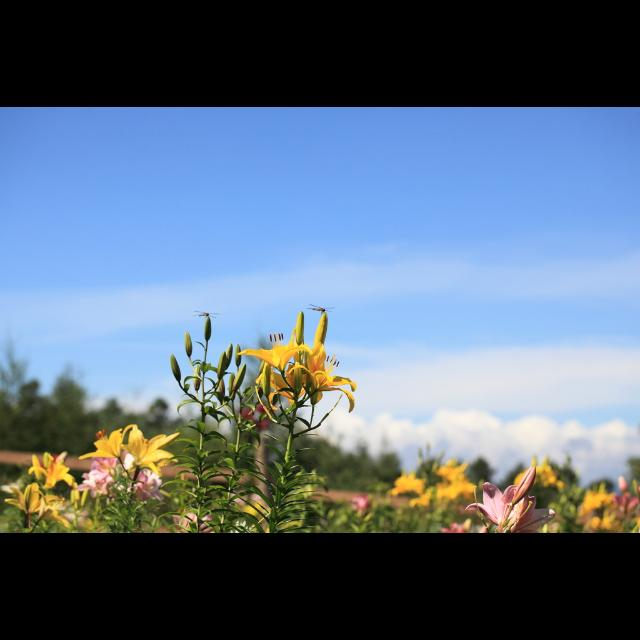Flower: (237, 306, 356, 408), (77, 428, 176, 492), (462, 468, 558, 534), (5, 482, 72, 526), (26, 450, 78, 490), (394, 474, 424, 494)
